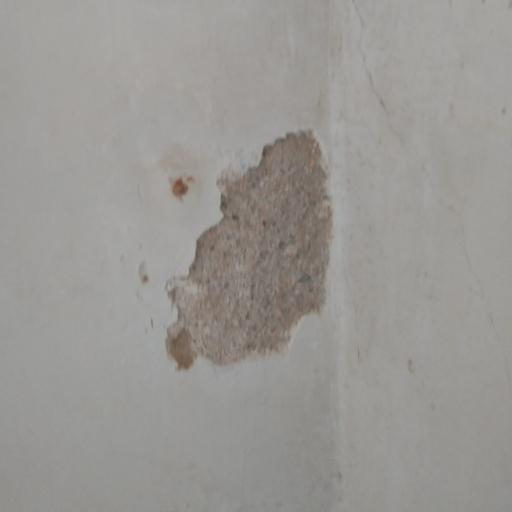peeling: (152, 113, 342, 372)
